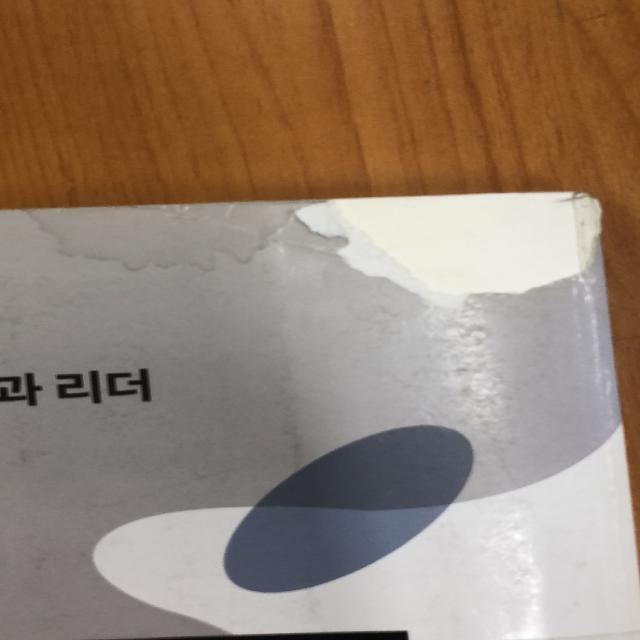Ripped: (287, 188, 610, 316)
